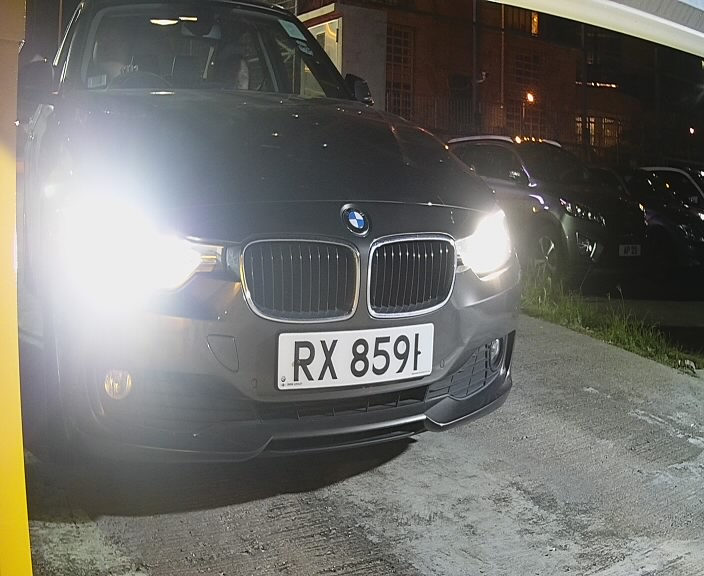Car: (5, 2, 532, 474)
License Plate: (270, 313, 440, 400)
